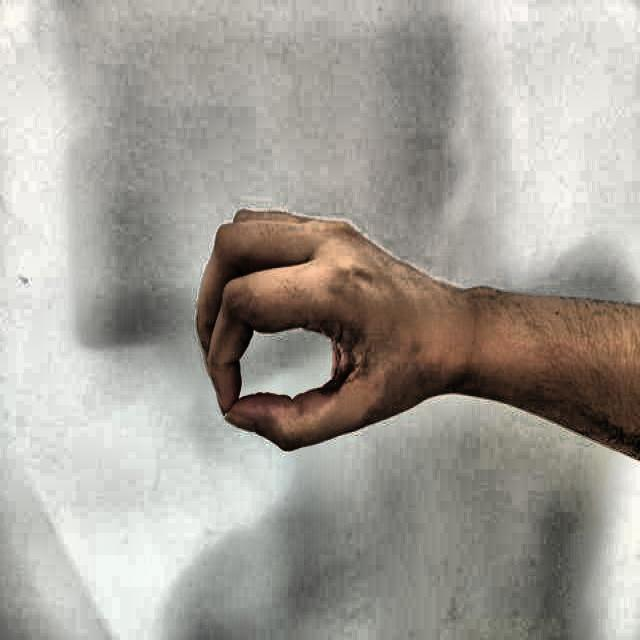O: (181, 184, 466, 478)
